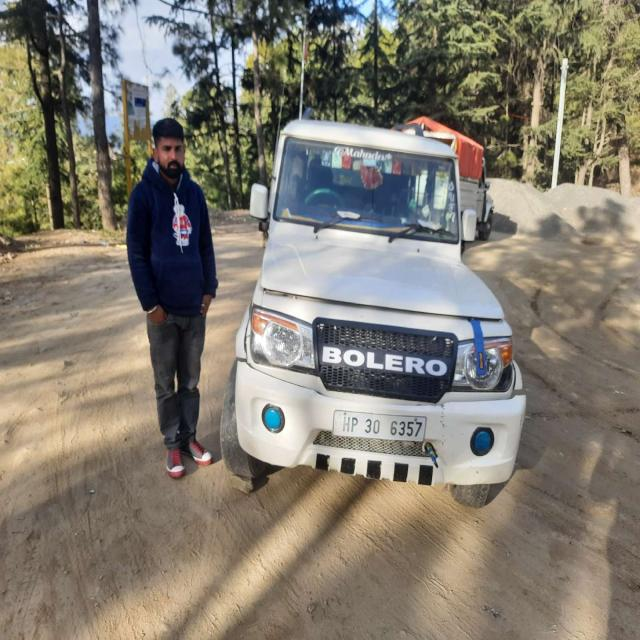light_vehicle: (230, 120, 515, 493)
